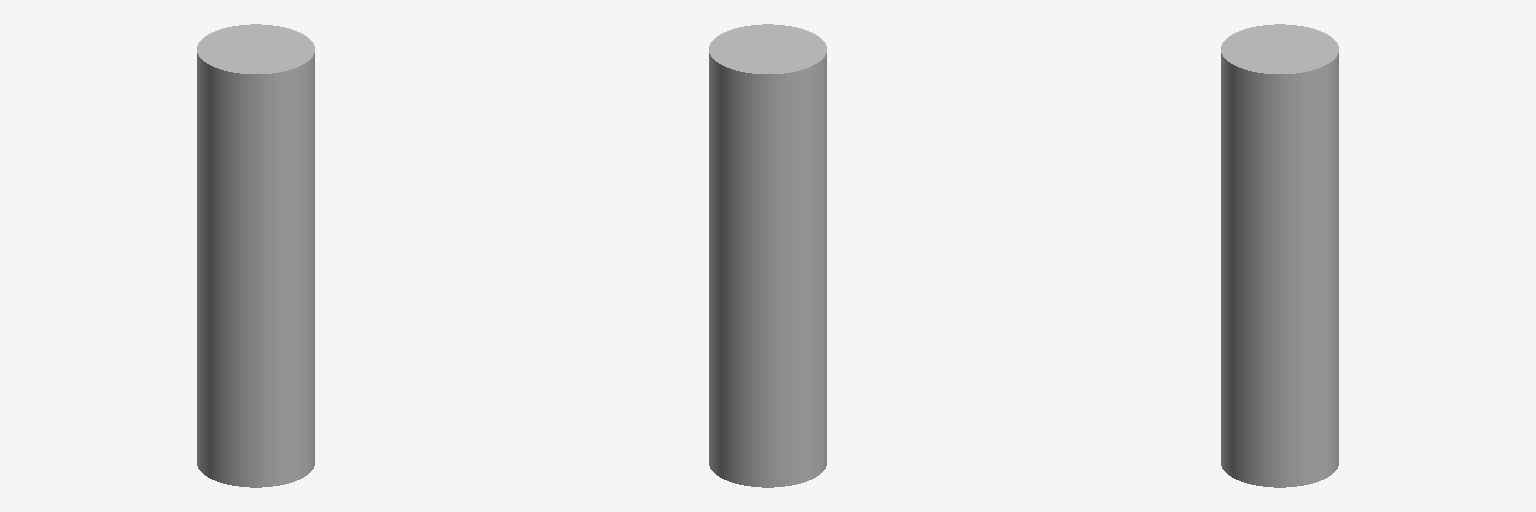
File: Shooting_cylinder.obj
3 views of the same model, side by side, from view 1: azimuth 30°, elevation 25°; view 2: azimuth 150°, elevation 25°; view 3: azimuth 270°, elevation 25° (orthographic).
Parts seen in each view (by area): view 1: Cylindre; view 2: Cylindre; view 3: Cylindre.
Boxes of the visible parts, x1=… form: Cylindre: x1=197, y1=24, x2=314, y2=487; Cylindre: x1=709, y1=24, x2=826, y2=487; Cylindre: x1=1221, y1=24, x2=1338, y2=487.
Bounding box in the file's own units: 0.6 × 2.31 × 0.6.